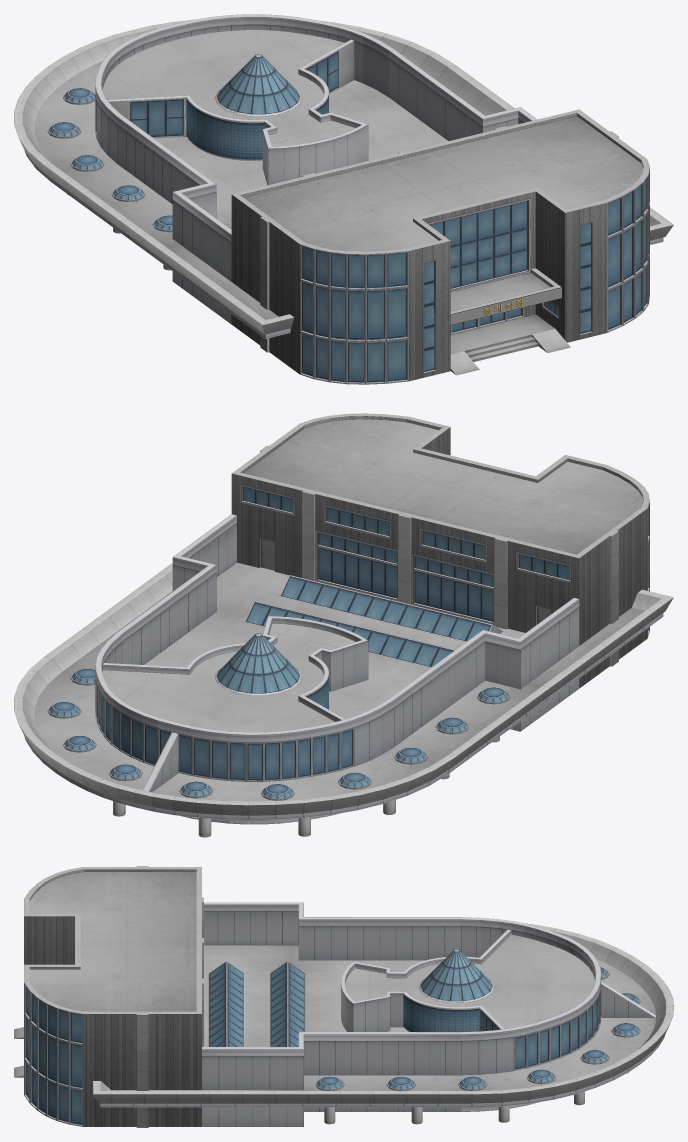
The picture shows the model from 3 angles, top to bottom: view 1: azimuth 30°, elevation 25°; view 2: azimuth 150°, elevation 25°; view 3: azimuth 270°, elevation 25°; orthographic projection. The views are drawn at different scales.
Parts seen in each view (by area): view 1: MainBuilding; view 2: MainBuilding; view 3: MainBuilding.
Boxes of the visible parts, x1,y1,x2,y2 form: MainBuilding: (14,14,673,384); MainBuilding: (14,413,673,837); MainBuilding: (14,866,673,1127).
Size of the model in its own units: 3.63 by 1.1 by 5.82.
Materials: 1 (1 with a texture image).
